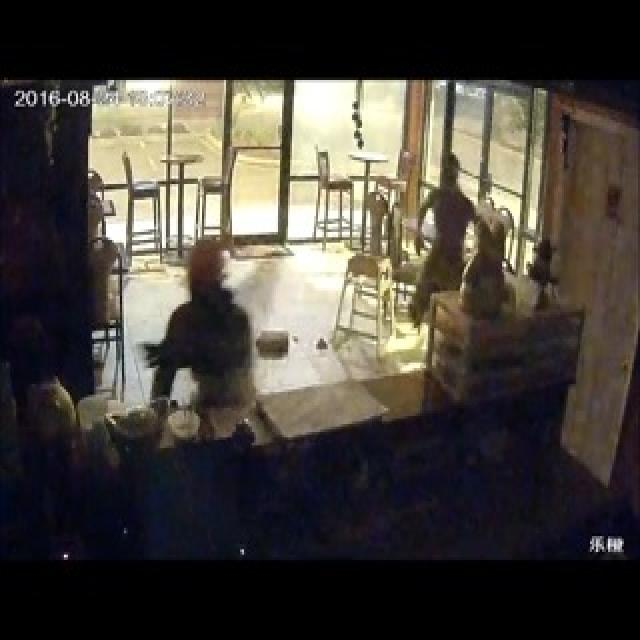thief: (174, 234, 264, 394)
